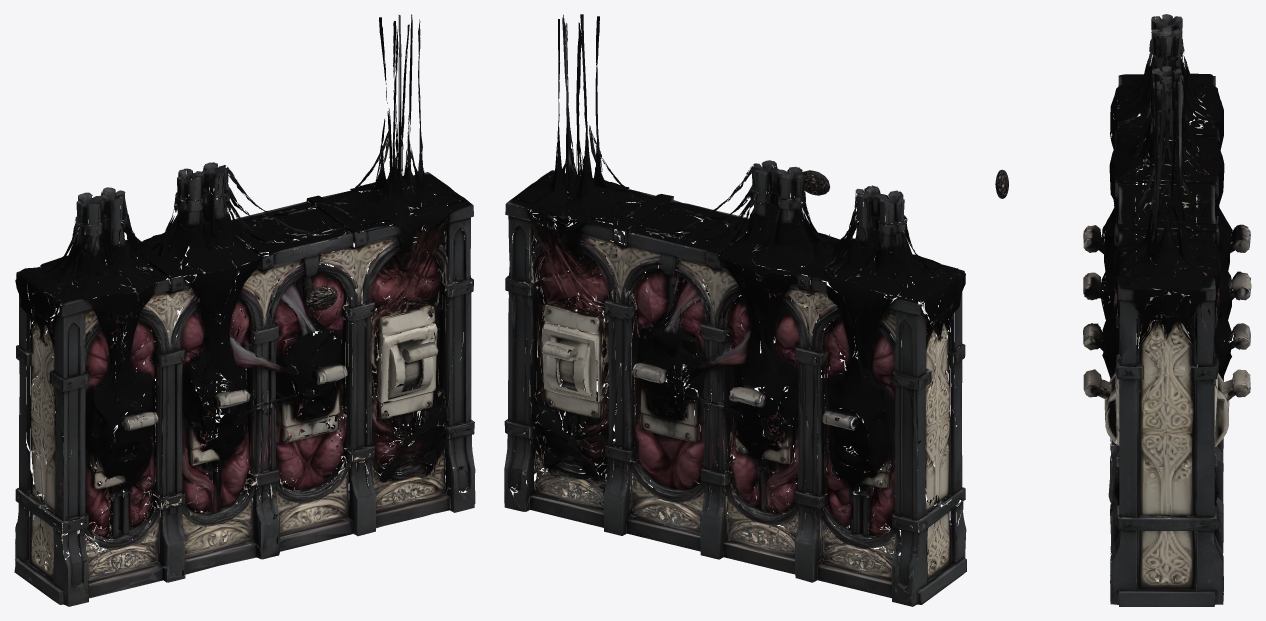
Rendered from meridian_turned_resin_choked_breaker_gallery.glb.
3 renders of one model, left to right at view 1: azimuth 30°, elevation 25°; view 2: azimuth 150°, elevation 25°; view 3: azimuth 270°, elevation 25°, orthographic. The views are drawn at different scales.
Visible parts, largest first — view 1: node_0, HB_PULSE_00; view 2: node_0; view 3: node_0.
Boxes of the visible parts, left/top/right/bottom form: node_0: left=14, top=14, right=475, bottom=606; HB_PULSE_00: left=306, top=286, right=337, bottom=310; node_0: left=504, top=14, right=966, bottom=606; node_0: left=1083, top=14, right=1251, bottom=606.
Bounding box in the file's own units: 0.8101 × 0.8817 × 0.403.
Materials: 1 (1 with a texture image).
